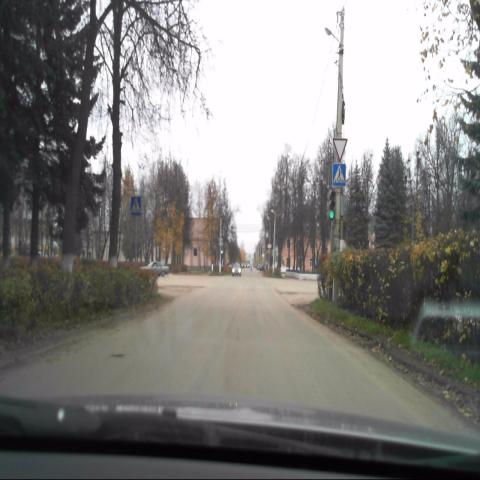2_4: (332, 139, 347, 162)
5_19_1: (332, 163, 346, 188), (131, 197, 141, 216)
